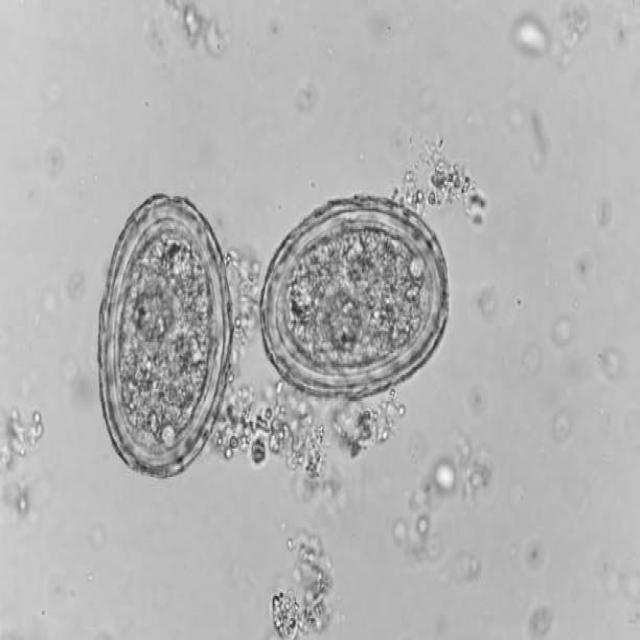Ascaris Lumbricoides: (78, 183, 238, 487), (252, 190, 460, 409)
